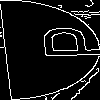P: (24, 25, 100, 60)
